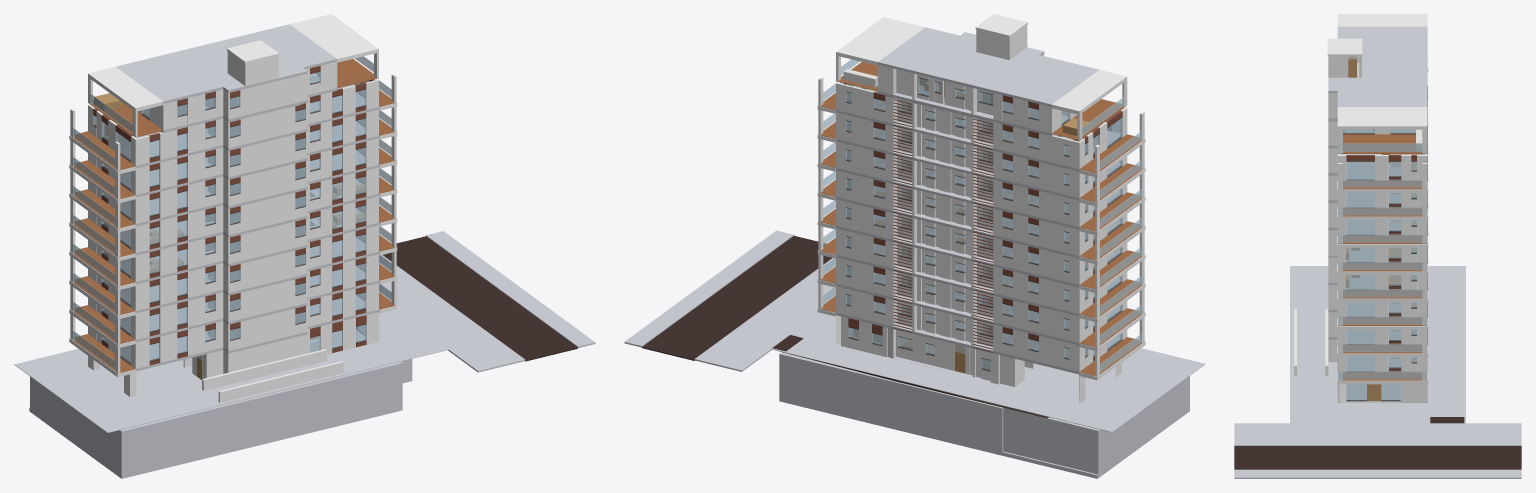
Rendered from hafetz44_model.obj.
3 views of the same model, side by side, from view 1: azimuth 30°, elevation 25°; view 2: azimuth 150°, elevation 25°; view 3: azimuth 270°, elevation 25° (orthographic). The views are drawn at different scales.
Parts seen in each view (by area): view 1: ext_white, slab_floor, glass_blue, alu_dark, wood_deck, dark_spandrel, oak_furn; view 2: ext_white, slab_floor, glass_blue, alu_dark, wood_deck, dark_spandrel, oak_furn; view 3: slab_floor, ext_white, glass_blue, alu_dark, wood_deck, dark_spandrel, oak_furn.
Boxes of the visible parts, bbox=[...] form: ext_white: bbox=[69, 14, 397, 405]; slab_floor: bbox=[14, 24, 595, 478]; glass_blue: bbox=[70, 56, 396, 369]; alu_dark: bbox=[93, 71, 577, 365]; wood_deck: bbox=[70, 59, 396, 373]; dark_spandrel: bbox=[93, 66, 372, 365]; oak_furn: bbox=[94, 93, 364, 379]; ext_white: bbox=[817, 14, 1145, 403]; slab_floor: bbox=[624, 27, 1205, 478]; glass_blue: bbox=[818, 59, 1144, 372]; alu_dark: bbox=[642, 77, 1122, 418]; wood_deck: bbox=[818, 62, 1144, 376]; dark_spandrel: bbox=[843, 83, 1122, 361]; oak_furn: bbox=[875, 78, 1118, 373]; slab_floor: bbox=[1234, 26, 1521, 478]; ext_white: bbox=[1294, 14, 1428, 402]; glass_blue: bbox=[1337, 129, 1427, 400]; alu_dark: bbox=[1234, 133, 1521, 469]; wood_deck: bbox=[1338, 134, 1427, 380]; dark_spandrel: bbox=[1346, 85, 1427, 371]; oak_furn: bbox=[1346, 59, 1400, 401].
Size of the model in its own units: 52.2 by 40.05 by 30.
